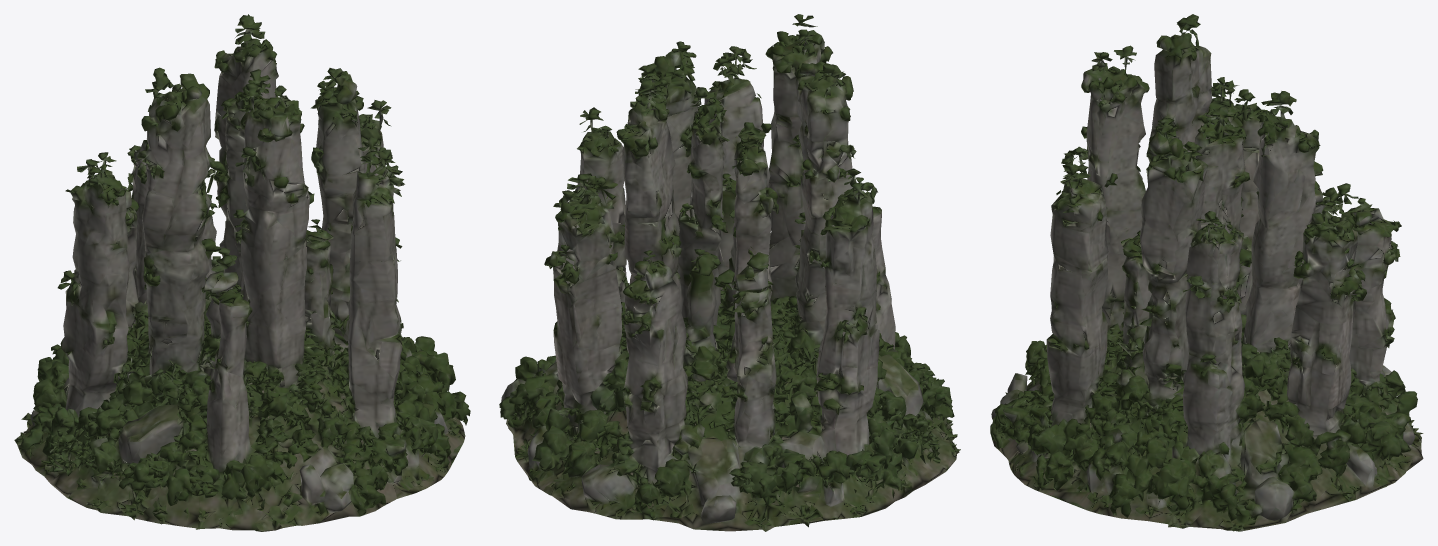
The model's file is av_needles_mid.glb.
3 views of the same model, side by side, from view 1: azimuth 30°, elevation 25°; view 2: azimuth 150°, elevation 25°; view 3: azimuth 270°, elevation 25° (orthographic). The views are drawn at different scales.
Parts seen in each view (by area): view 1: av_needles; view 2: av_needles; view 3: av_needles.
Part boxes in pixels (x1,y1,x2,y2): av_needles: (14,14,470,531); av_needles: (499,14,960,531); av_needles: (990,14,1423,531).
Size of the model in its own units: 1.88 by 1.74 by 1.81.
1 material, 1 textured.
